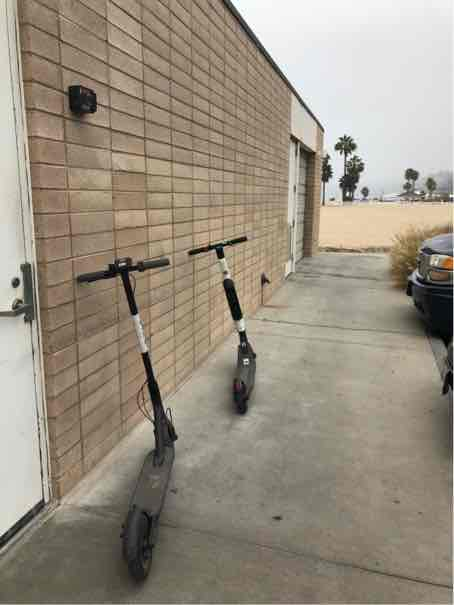scooter: (166, 222, 270, 431)
